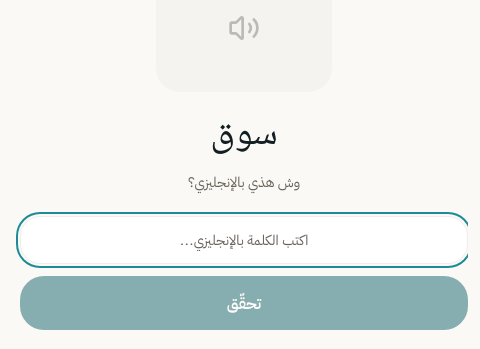
Test: typing the answer › accepts the right word
Type "market" into the field with placeholder "اكتب الكلمة بالإنجليزي…" at (244, 240), box x1=20 y1=216 x2=468 y2=264
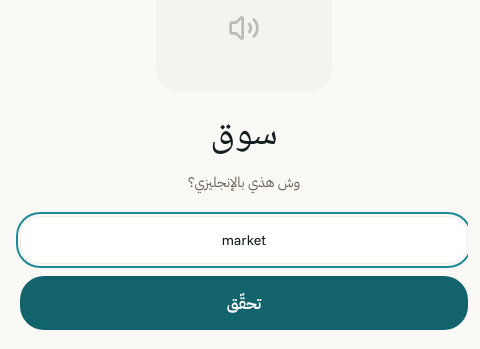
Click the button "تحقّق" at (244, 303), box x1=20 y1=276 x2=468 y2=330
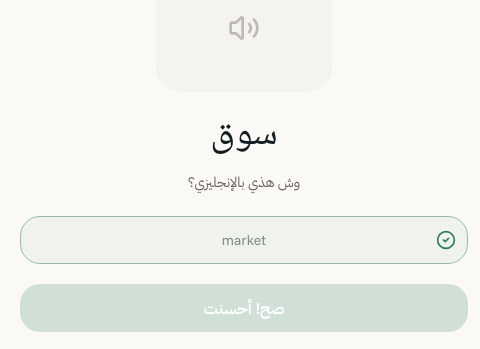
Check: the text "صح! أحسنت" is shown, box x1=20 y1=284 x2=468 y2=332
